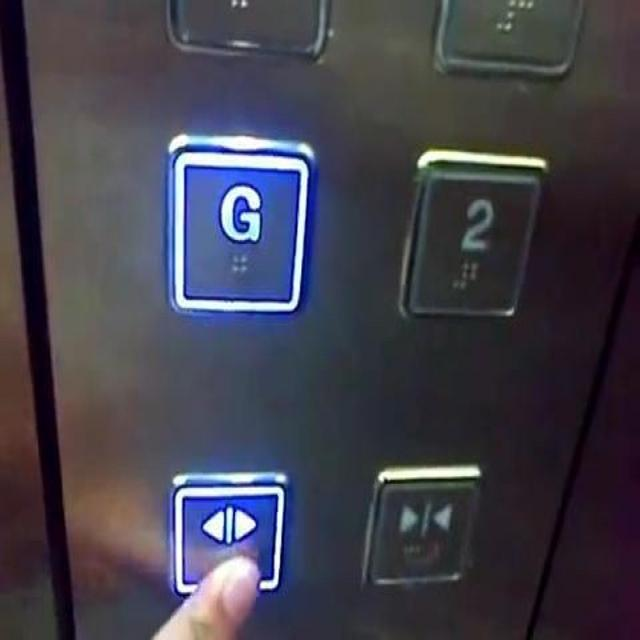2: (397, 148, 546, 321)
G: (164, 128, 316, 316)
close: (361, 466, 481, 590)
open: (166, 469, 286, 596)
